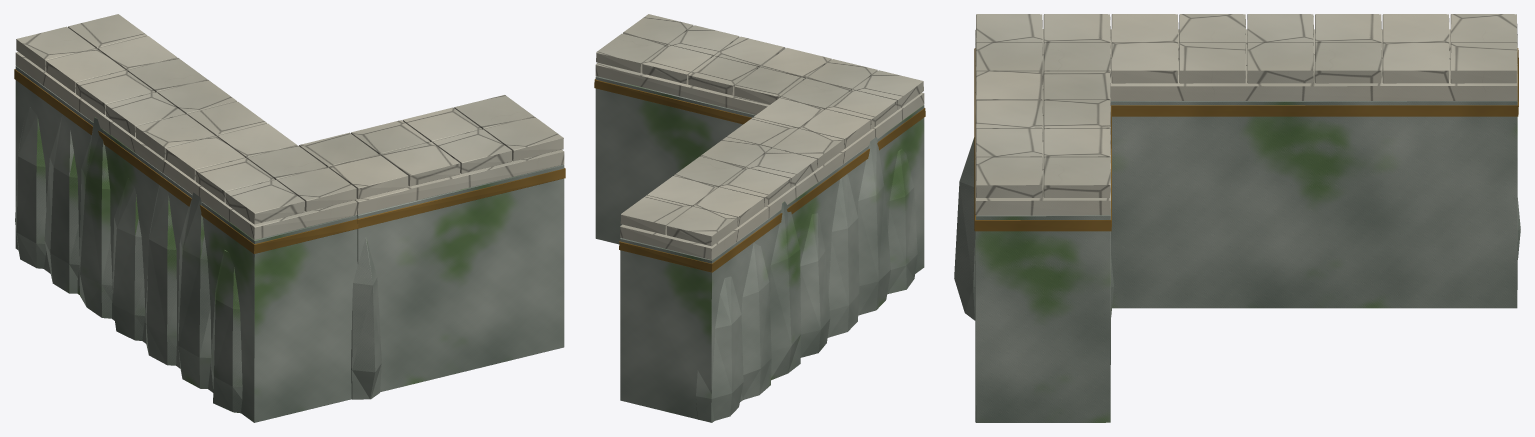
The model's file is t02_shore_outer_lod1.fbx.
3 renders of one model, left to right at view 1: azimuth 30°, elevation 25°; view 2: azimuth 150°, elevation 25°; view 3: azimuth 270°, elevation 25°, orthographic. The views are drawn at different scales.
Parts seen in each view (by area): view 1: t02_shore_outer.005; view 2: t02_shore_outer.005; view 3: t02_shore_outer.005.
Boxes of the visible parts, x1,y1,x2,y2 form: t02_shore_outer.005: [14, 14, 565, 422]; t02_shore_outer.005: [594, 14, 925, 422]; t02_shore_outer.005: [954, 14, 1520, 422].
Size of the model in its own units: 53499 by 40000 by 24779.
